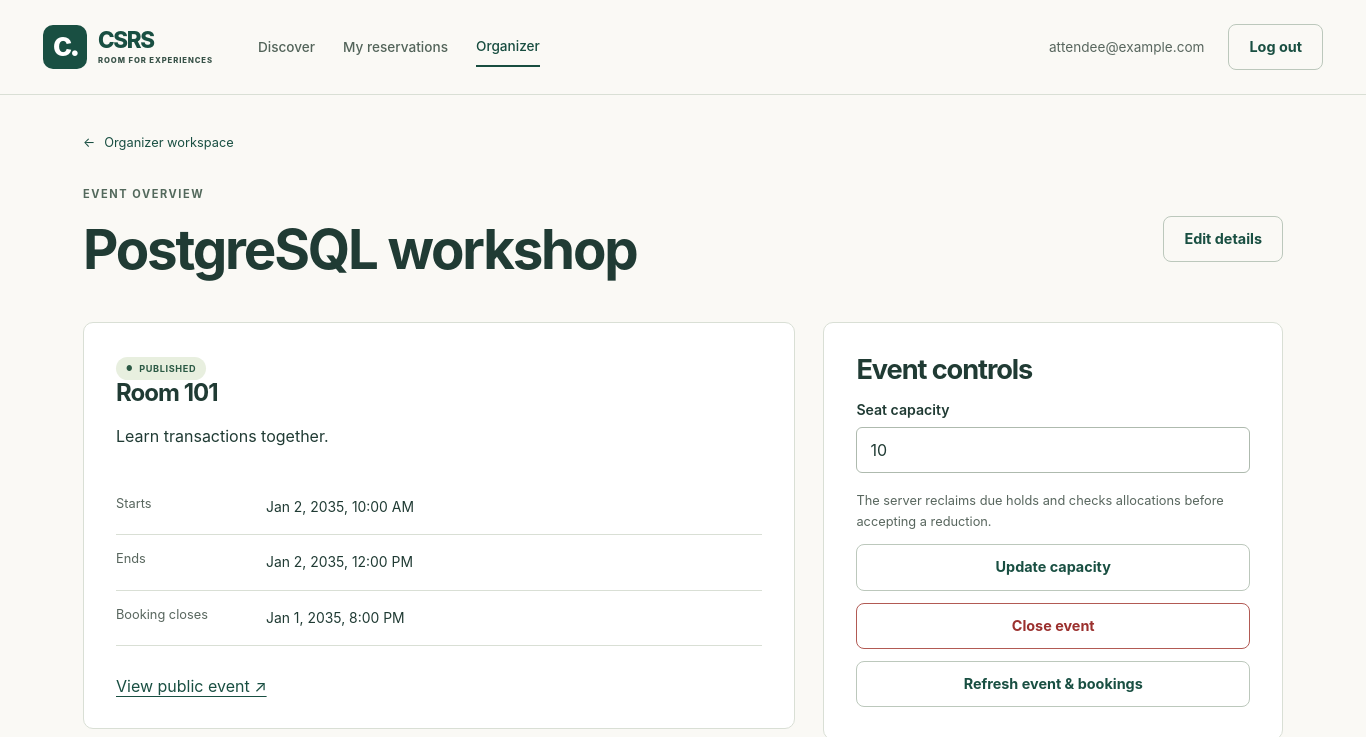
Test: organizer management › updates capacity through its separate endpoint
This screenshot has width=1366, height=737.
Replace the text in the number field labelled "Seat capacity" with "12" at [1053, 450], box left=856, top=428, right=1250, bottom=474
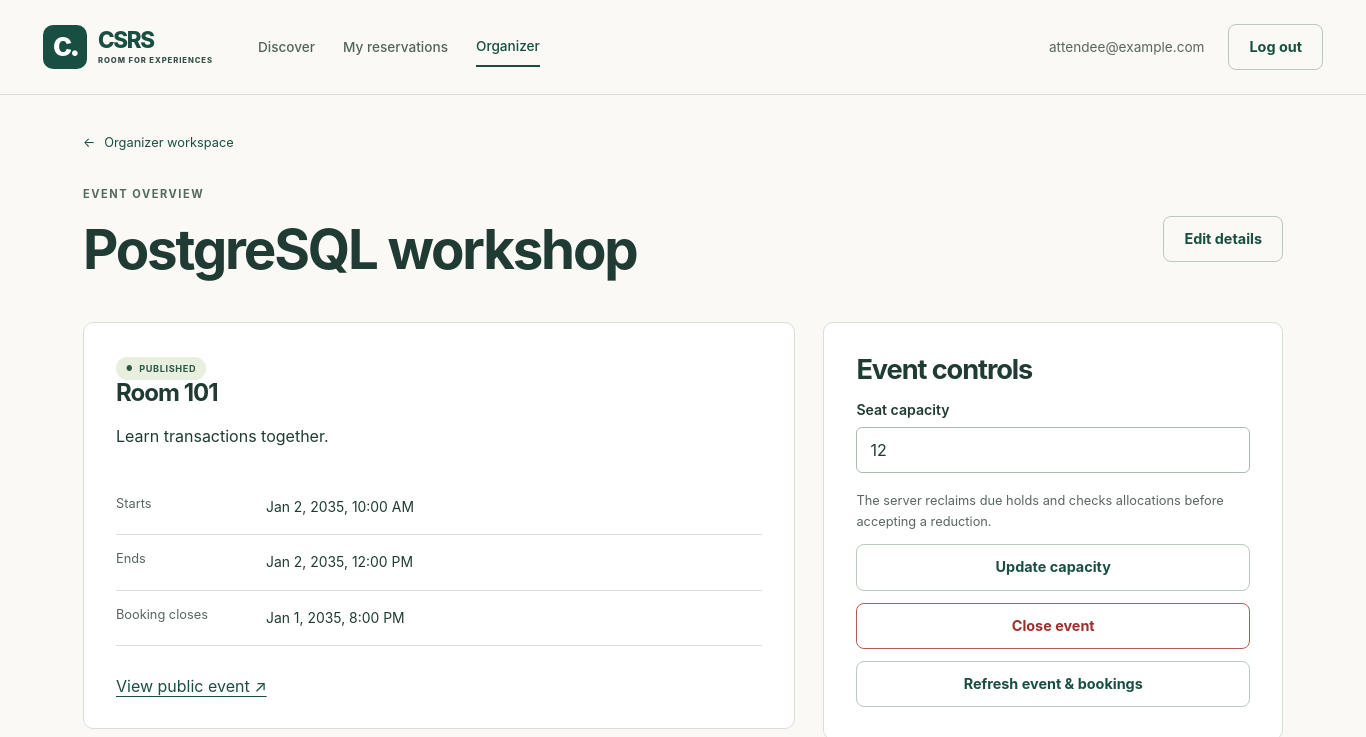
Click the button "Update capacity" at [1053, 568], box left=856, top=544, right=1250, bottom=591
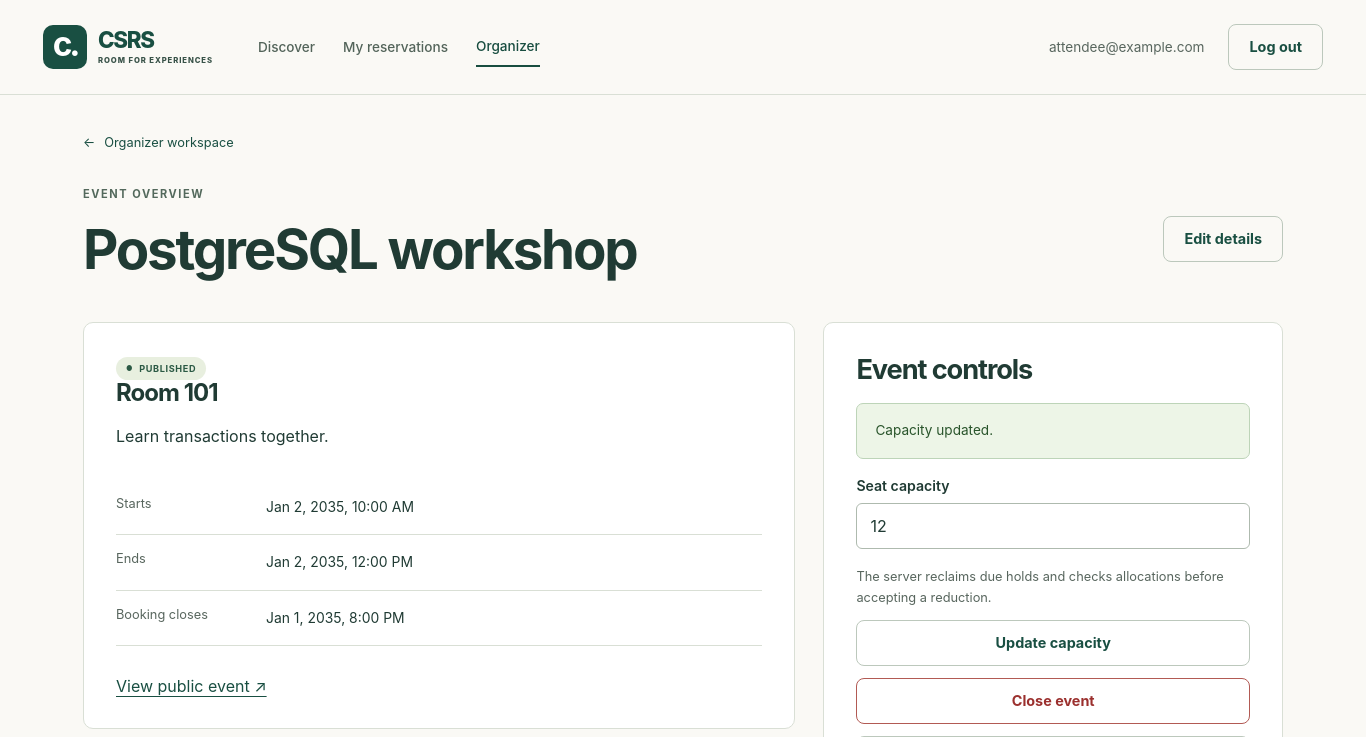
Expected: the text "Capacity updated." is shown, left=856, top=404, right=1250, bottom=459
